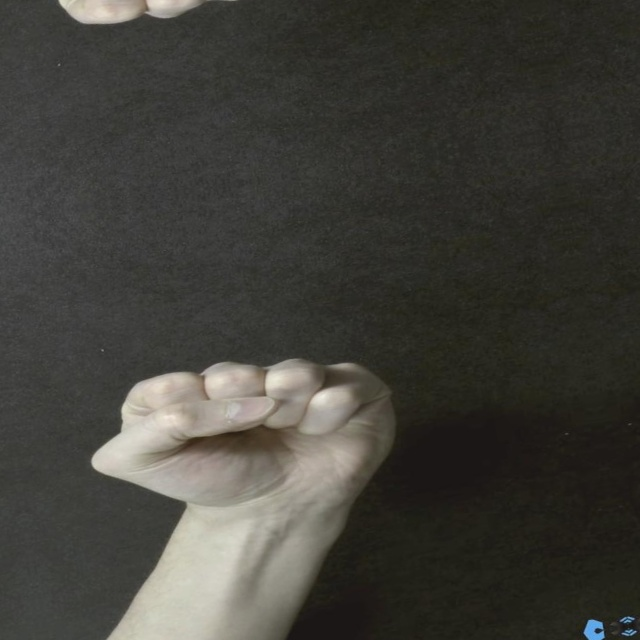Rock: (74, 338, 411, 531)
